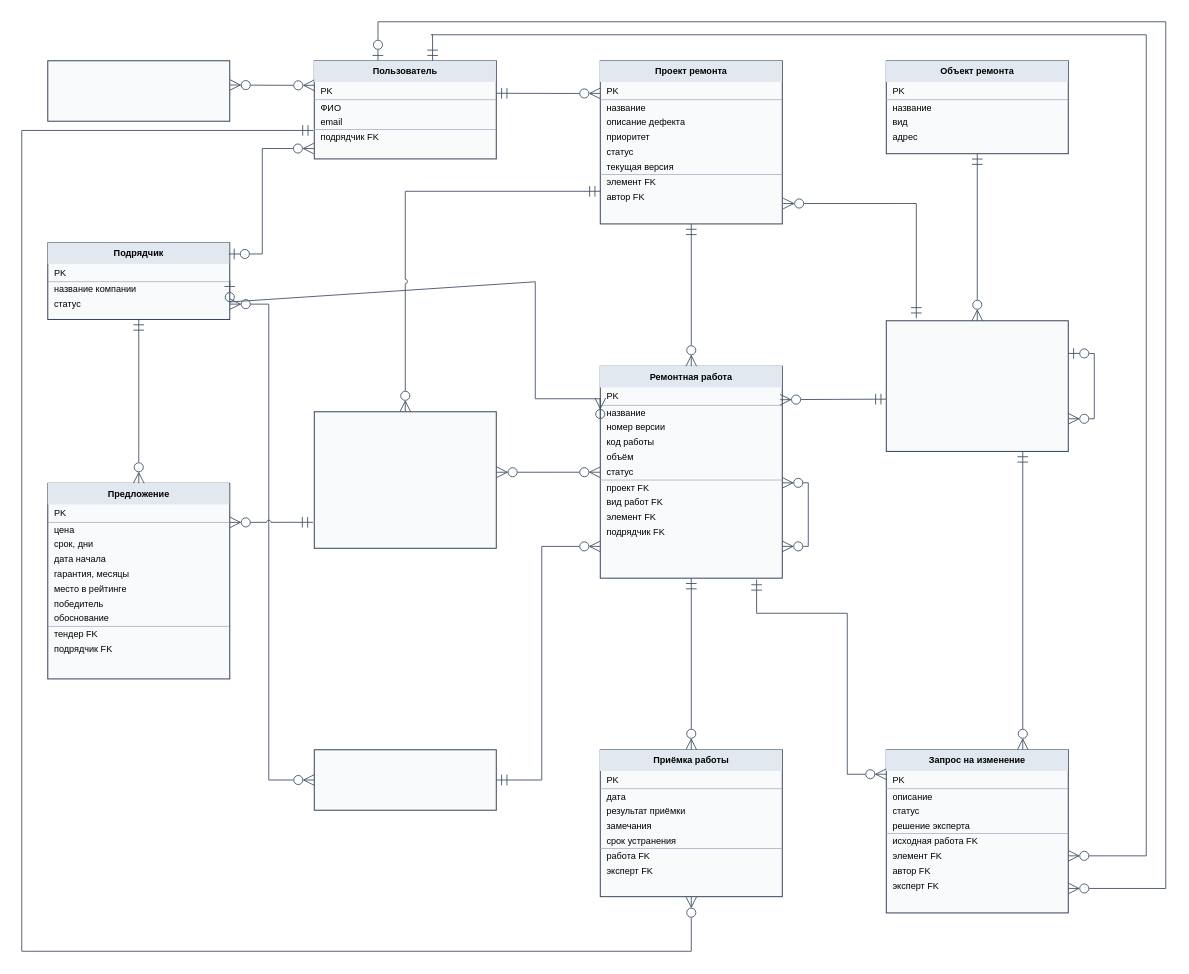
Image size: 1189x974. Some labels were removed from this diagram. The shapes that lost their labels are listed below. From the top down, each one's centre as x and y in pixels, then its label:
At point 138,90: "Роль PK название".
At point 976,386: "Элемент объекта PK название тип элемента положение объект FK родитель FK".
At point 404,479: "Тендер PK название версия плана срок ответов статус проект FK".
At point 404,779: "Вид работ PK название".
